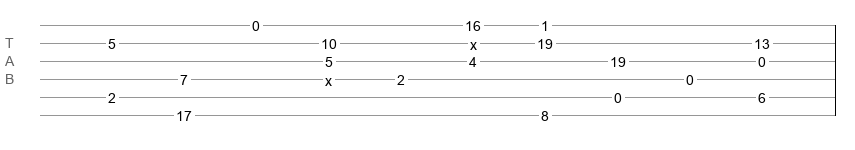0: (252, 18, 260, 28), (614, 90, 622, 100), (686, 72, 694, 82), (758, 54, 766, 64)
1: (541, 18, 549, 28)
10: (321, 36, 337, 46)
13: (754, 36, 770, 46)
16: (465, 18, 481, 28)
17: (176, 108, 192, 118)
19: (537, 36, 553, 46), (610, 54, 626, 64)
2: (108, 90, 116, 100), (397, 72, 405, 82)
4: (469, 54, 477, 64)
5: (108, 36, 116, 46), (325, 54, 333, 64)
6: (758, 90, 766, 100)
7: (180, 72, 188, 82)
8: (541, 108, 549, 118)
x: (325, 73, 332, 81), (470, 37, 477, 45)
